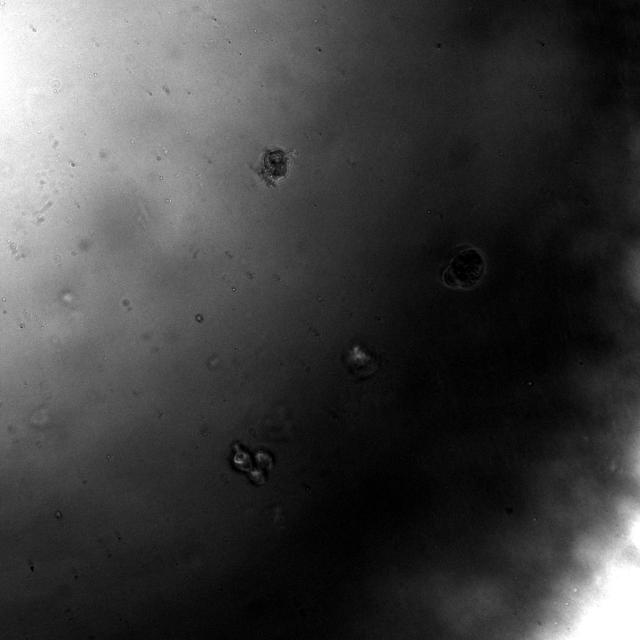organoid: (440, 244, 486, 290), (229, 440, 274, 485), (342, 342, 381, 379), (255, 148, 291, 186)
